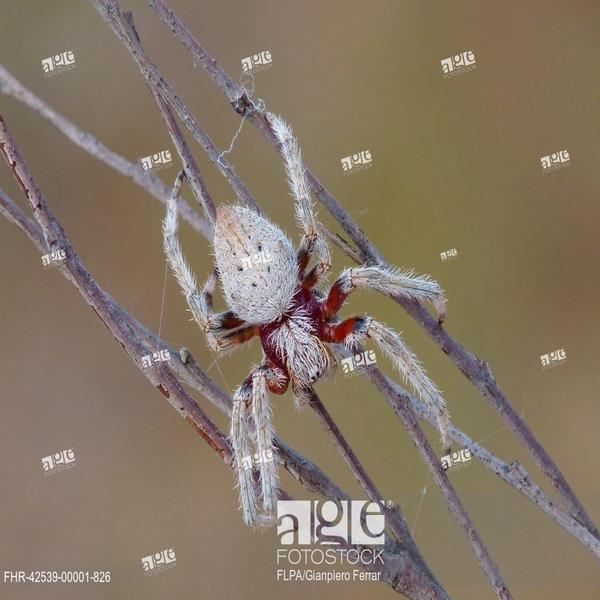Garden Orb Weaver Spider: (170, 112, 449, 522)
